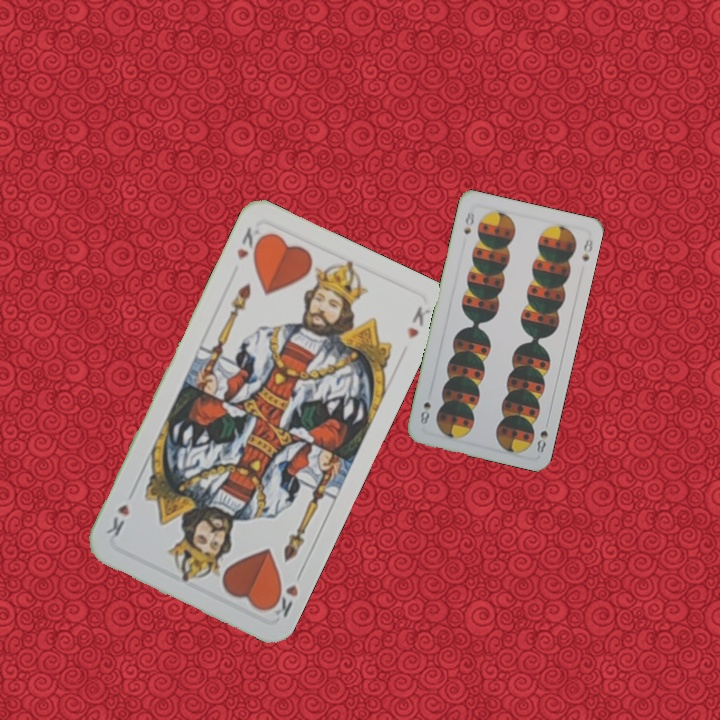HK: (264, 565, 306, 621), (232, 223, 267, 263)
S8: (532, 416, 551, 455), (460, 208, 477, 237)
